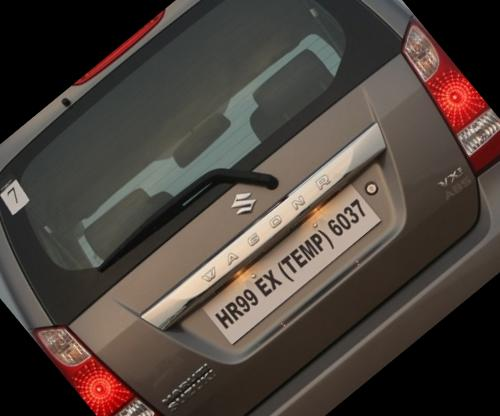plate: (186, 160, 406, 363)
